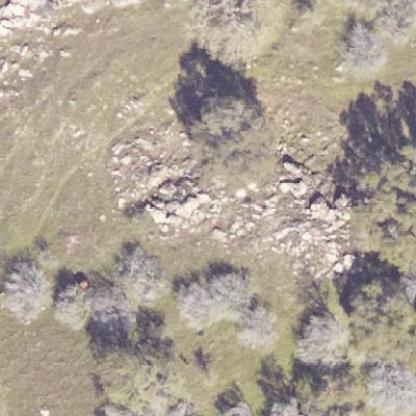tree-top: (182, 91, 291, 203), (340, 136, 415, 276), (338, 274, 415, 370), (90, 340, 194, 403), (106, 242, 176, 310), (0, 256, 64, 326), (289, 364, 376, 415), (166, 271, 224, 333), (332, 22, 393, 79), (292, 308, 348, 366), (359, 357, 415, 415), (231, 300, 285, 354)
